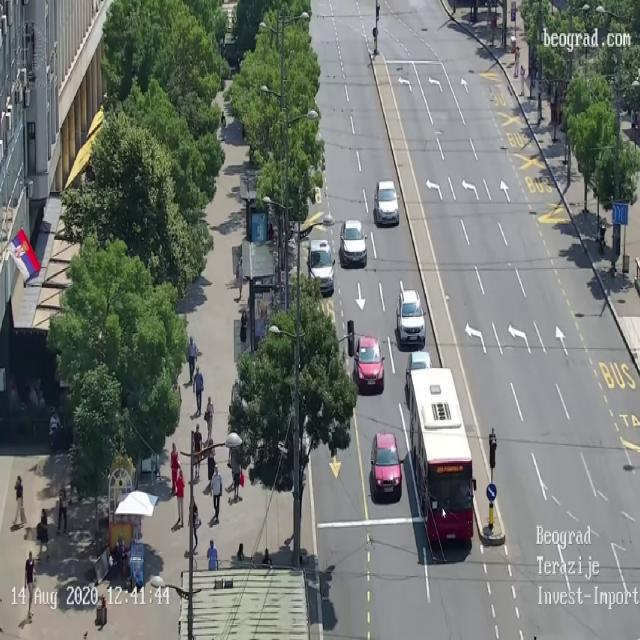bus: (404, 363, 475, 546)
car: (370, 431, 402, 501), (306, 238, 335, 297), (396, 287, 425, 346), (354, 335, 384, 392), (339, 220, 367, 268), (374, 180, 399, 227)
